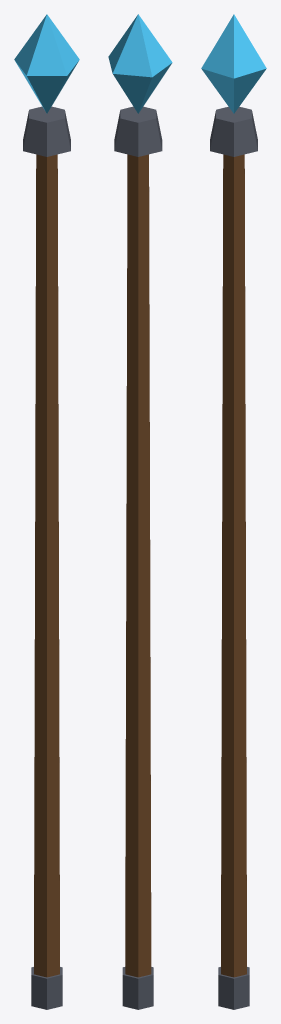
Rendered from staff.glb.
The picture shows the model from 3 angles, left to right: view 1: azimuth 90°, elevation 25°; view 2: azimuth 150°, elevation 25°; view 3: azimuth 270°, elevation 25°; orthographic projection.
Parts seen in each view (by area): view 1: Staff; view 2: Staff; view 3: Staff.
Part boxes in pixels (x1,y1,x2,y2): Staff: (14,14,79,1009); Staff: (108,14,172,1009); Staff: (201,14,266,1009).
Bounding box in the file's own units: 0.0905 × 1.58 × 0.0951.
